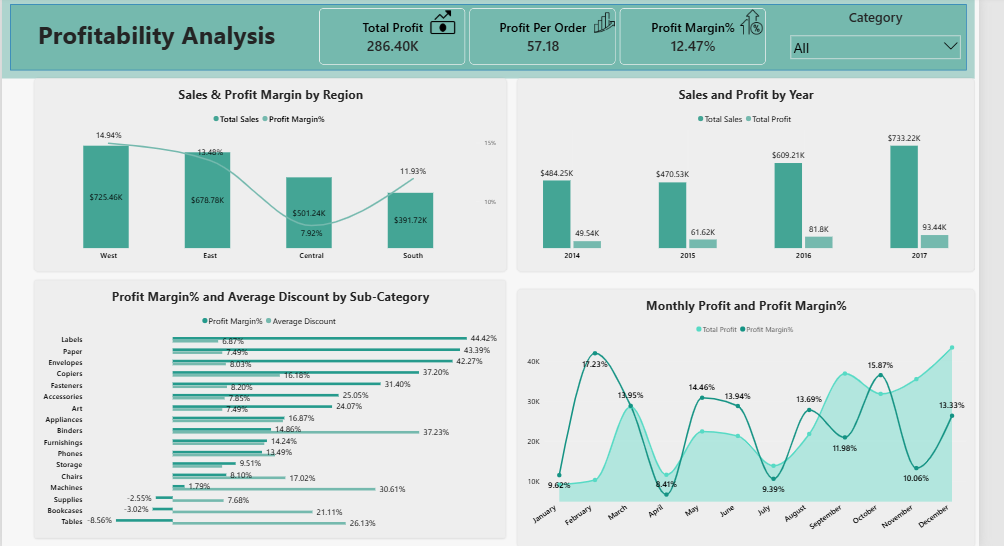

This screenshot's page, from the dashboard's own definition file:
{"tool":"powerbi","page":{"name":"Profitability Analysis","canvas":[1920,1080],"ordinal":1},"visuals":[{"type":"shape","box":[0,0,1910,160],"z":0},{"type":"lineChart","title":"Monthly Profit and Profit Margin%","fields":{"Category":["DateTable.Month"],"Y":["Measures (2).Total Profit"],"Y2":["Measures (2).Profit Margin%"]},"box":[1011.3,573.4,899.3,506.6],"z":1000},{"type":"clusteredBarChart","fields":{"Category":["Superstore.Sub-Category"],"Y":["Measures (2).Profit Margin%","Measures (2).Average Discount"]},"box":[62.8,555.7,926.8,506.6],"z":2000},{"type":"lineClusteredColumnComboChart","title":"Sales & Profit Margin by Region","fields":{"Category":["Superstore.Region"],"Y":["Measures (2).Total Sales"],"Y2":["Measures (2).Profit Margin%"]},"box":[62,160,928,380],"z":3000},{"type":"clusteredColumnChart","title":"Sales and Profit by Year","fields":{"Category":["DateTable.Year"],"Y":["Measures (2).Total Sales","Measures (2).Total Profit"]},"box":[1012,160,898,380],"z":4000},{"type":"textbox","box":[0,41.2,606.8,100.1],"z":5000},{"type":"cardVisual","fields":{"Data":["Measures (2).Total Profit","Measures (2).Profit Per Order","Measures (2).Profit Margin%"]},"box":[606.8,7.9,911.1,141.4],"z":6000},{"type":"slicer","title":"Category","fields":{"Values":["Superstore.Category"]},"box":[1543.4,21.6,343.6,115.9],"z":8000},{"type":"image","box":[829.4,21.6,73.4,56.2],"z":11000},{"type":"image","box":[1447.2,21.6,49.1,55],"z":12000},{"type":"image","box":[1162.5,23.6,41.2,53],"z":13000}]}

Visuals, with their boxes on the page's 1920x1080 design canvas (x1, y1, x2, y2). These are canvas units, not pixel positions in the 1004x546 screenshot, which may show the page scaled, cropped or inside an application window:
shape: pyautogui.locateOnScreen(0, 0, 1910, 160)
"Monthly Profit and Profit Margin%" lineChart: pyautogui.locateOnScreen(1011, 573, 1911, 1080)
clusteredBarChart - Superstore.Sub-Category x Measures (2).Profit Margin%: pyautogui.locateOnScreen(63, 556, 990, 1062)
"Sales & Profit Margin by Region" lineClusteredColumnComboChart: pyautogui.locateOnScreen(62, 160, 990, 540)
"Sales and Profit by Year" clusteredColumnChart: pyautogui.locateOnScreen(1012, 160, 1910, 540)
textbox: pyautogui.locateOnScreen(0, 41, 607, 141)
cardVisual - Measures (2).Total Profit x Measures (2).Profit Per Order: pyautogui.locateOnScreen(607, 8, 1518, 149)
"Category" slicer: pyautogui.locateOnScreen(1543, 22, 1887, 138)
image: pyautogui.locateOnScreen(829, 22, 903, 78)
image: pyautogui.locateOnScreen(1447, 22, 1496, 77)
image: pyautogui.locateOnScreen(1162, 24, 1204, 77)
